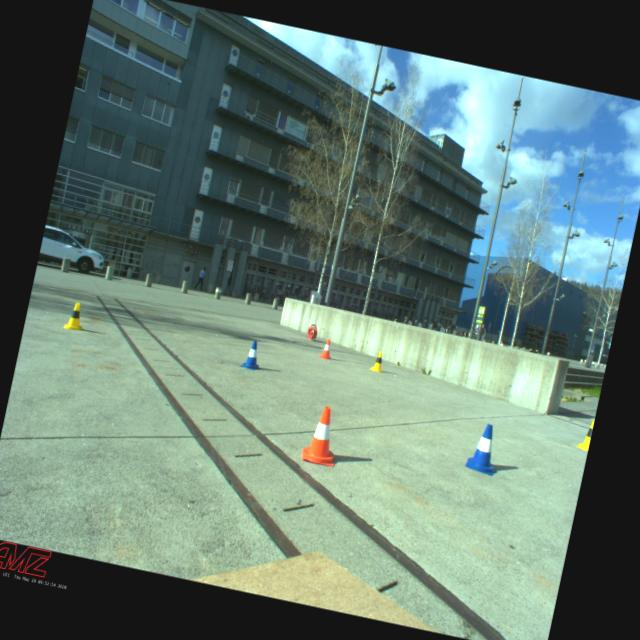blue_cone: (464, 421, 504, 476), (240, 338, 266, 372)
orange_cone: (300, 402, 346, 467), (318, 337, 336, 360)
yellow_cone: (63, 300, 88, 332), (574, 416, 594, 451), (368, 349, 388, 373)
